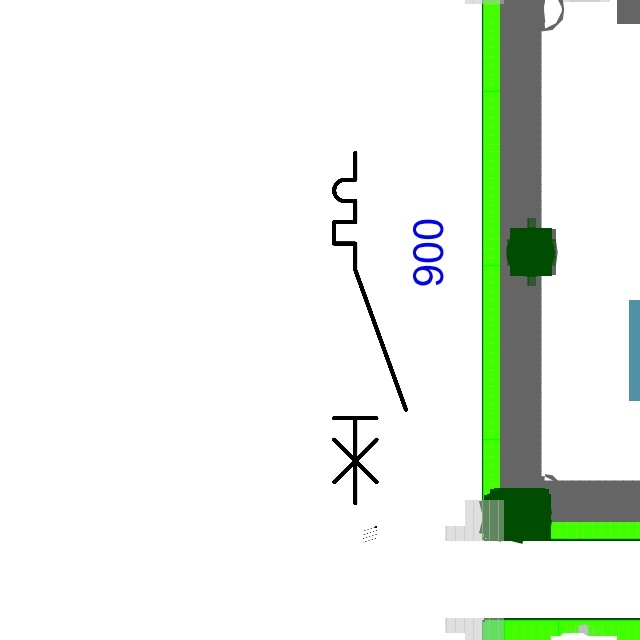interruptor_termomagnetico: (325, 144, 415, 513)
